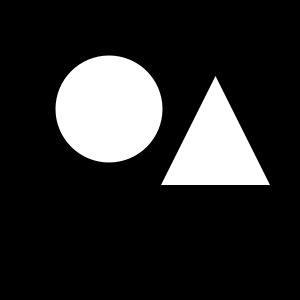rectangle: (56, 56, 163, 163)
triangle: (161, 76, 270, 185)
